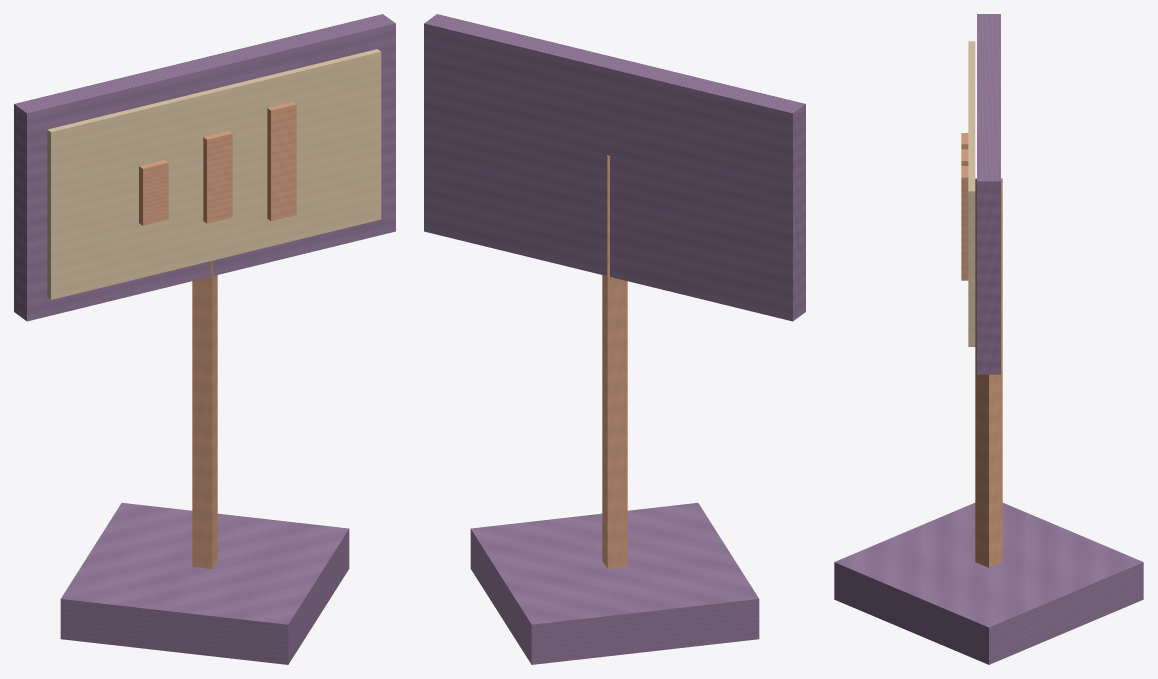
Rendered from atlas100-s081-a11.glb.
3 views of the same model, side by side, from view 1: azimuth 30°, elevation 25°; view 2: azimuth 150°, elevation 25°; view 3: azimuth 270°, elevation 25° (orthographic). The views are drawn at different scales.
Visible parts, largest first — view 1: atlas100-s081-a11:part-003, atlas100-s081-a11:part-000, atlas100-s081-a11:part-002, atlas100-s081-a11:part-001, atlas100-s081-a11:part-006, atlas100-s081-a11:part-005, atlas100-s081-a11:part-004; view 2: atlas100-s081-a11:part-002, atlas100-s081-a11:part-000, atlas100-s081-a11:part-001; view 3: atlas100-s081-a11:part-000, atlas100-s081-a11:part-002, atlas100-s081-a11:part-001, atlas100-s081-a11:part-003, atlas100-s081-a11:part-006.
Boxes of the visible parts, left/top/right/bottom form: atlas100-s081-a11:part-003: left=47, top=49, right=381, bottom=299; atlas100-s081-a11:part-000: left=60, top=503, right=349, bottom=664; atlas100-s081-a11:part-002: left=14, top=14, right=395, bottom=321; atlas100-s081-a11:part-001: left=192, top=260, right=217, bottom=568; atlas100-s081-a11:part-006: left=267, top=102, right=296, bottom=221; atlas100-s081-a11:part-005: left=203, top=131, right=232, bottom=223; atlas100-s081-a11:part-004: left=139, top=160, right=168, bottom=225; atlas100-s081-a11:part-002: left=424, top=14, right=805, bottom=321; atlas100-s081-a11:part-000: left=470, top=503, right=759, bottom=664; atlas100-s081-a11:part-001: left=602, top=155, right=627, bottom=568; atlas100-s081-a11:part-000: left=834, top=503, right=1143, bottom=664; atlas100-s081-a11:part-002: left=977, top=14, right=1000, bottom=374; atlas100-s081-a11:part-001: left=975, top=178, right=1002, bottom=567; atlas100-s081-a11:part-003: left=968, top=41, right=975, bottom=346; atlas100-s081-a11:part-006: left=961, top=166, right=968, bottom=280.
Bounding box in the file's own units: 1.15 × 1.61 × 0.9.
3 materials, 3 textured.
